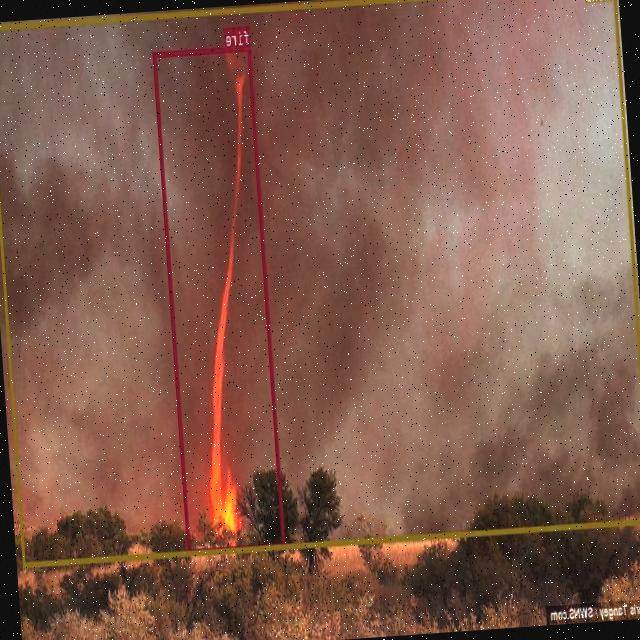fire: (153, 44, 286, 554)
smoke: (0, 0, 640, 566)
